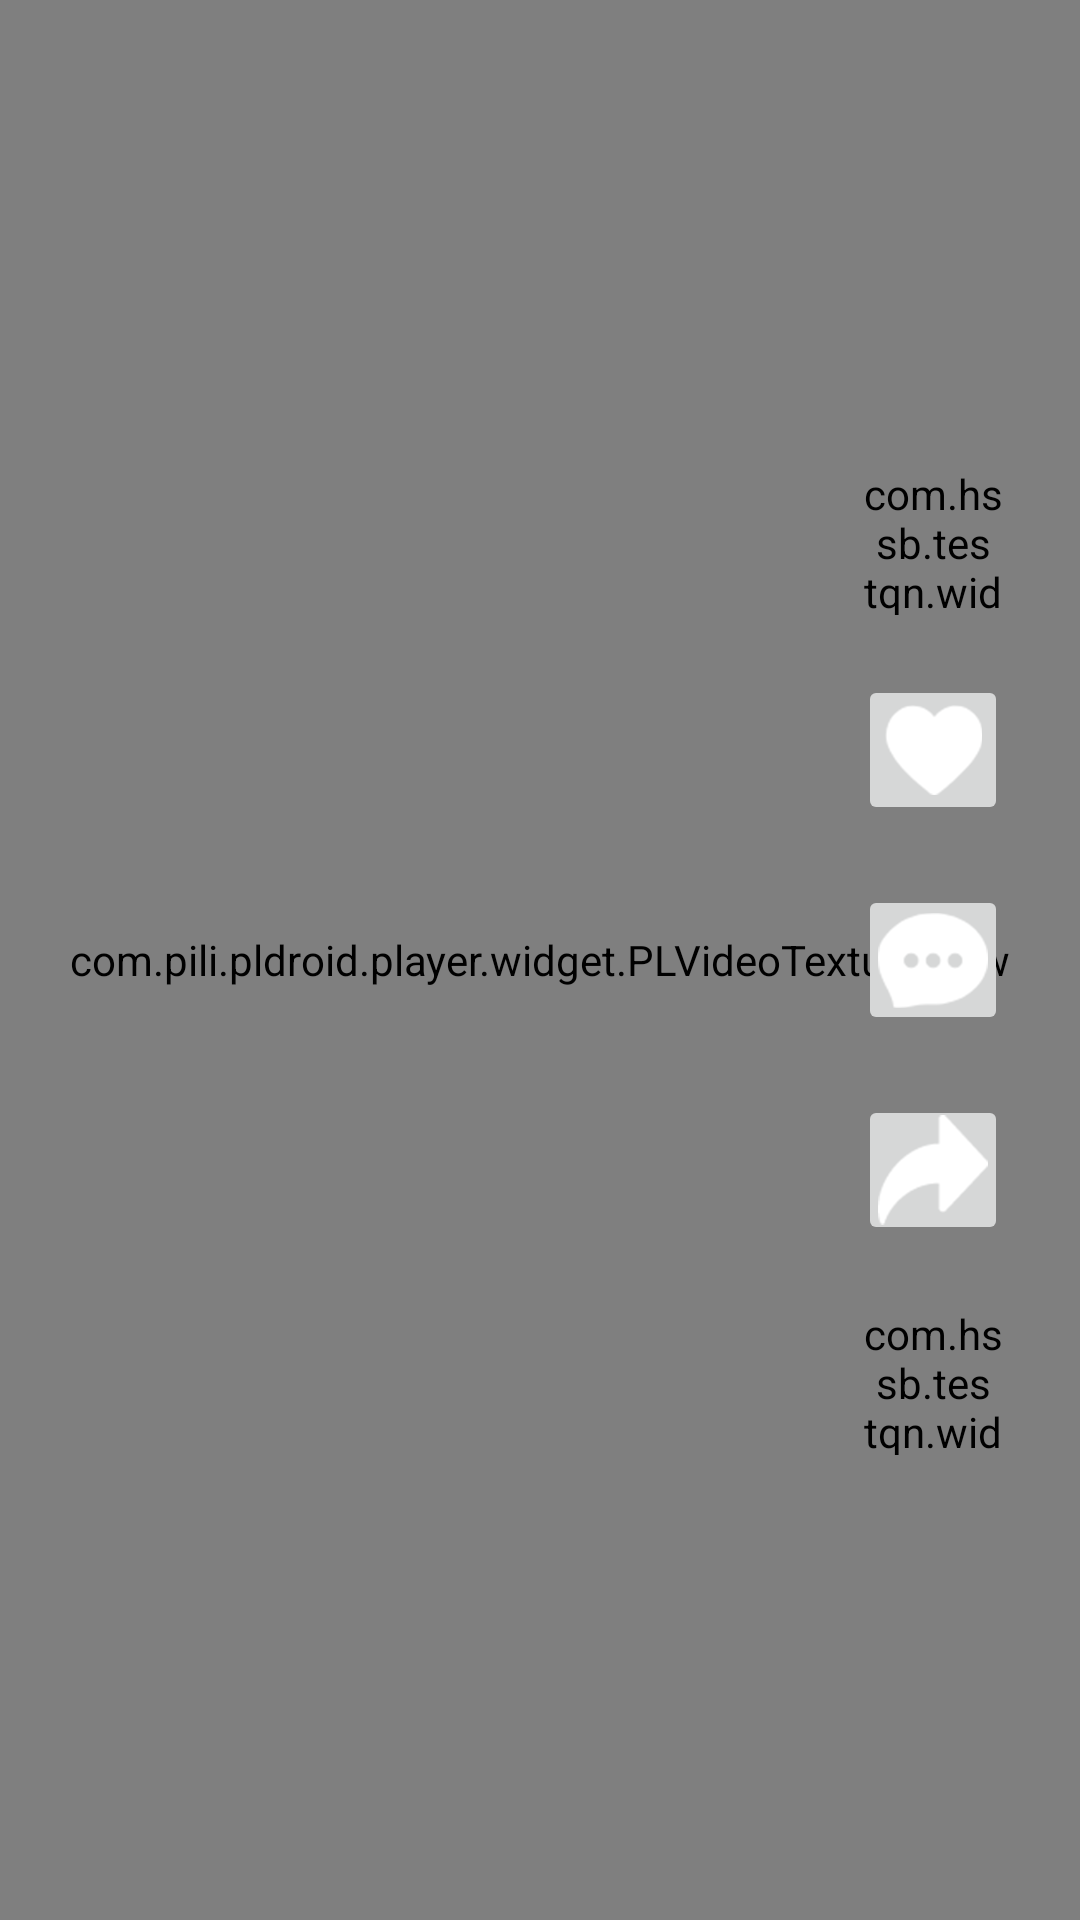

Screen size 1080×1920. Icon name, then its box in pixels as bbox=[x1, y1, x2, y2]:
collect: bbox=[870, 693, 996, 807]
comment: bbox=[864, 903, 1008, 1017]
forward: bbox=[870, 1113, 996, 1227]
